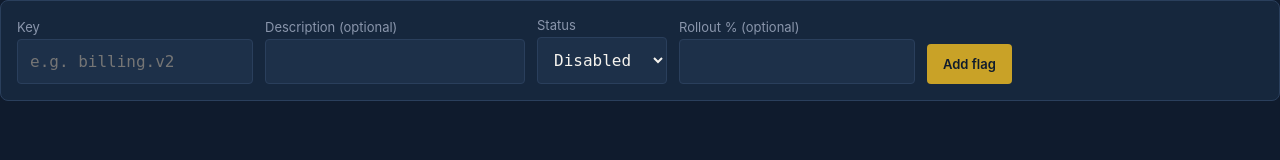
CreateFeatureFlagForm › shows the action-returned error message and does not reset the fields on failure
Type "billing.v2" into the field labelled "Key". click: (135, 62)
box: [17,39,253,84]
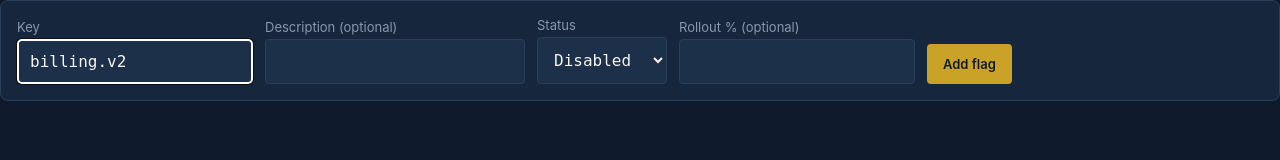
Click the button "Add flag". click: click(969, 64)
box: [927,44,1012,84]
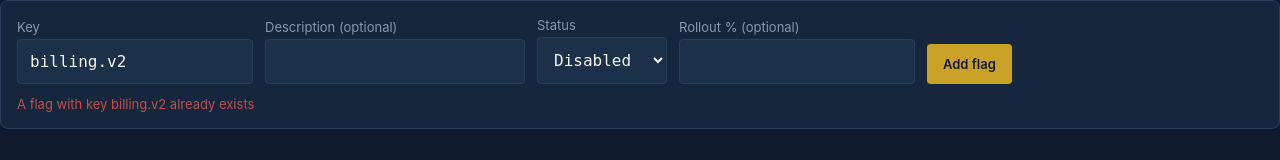
Now the text "A flag with key billing.v2 already exists" is shown, box [17,96,254,112]
